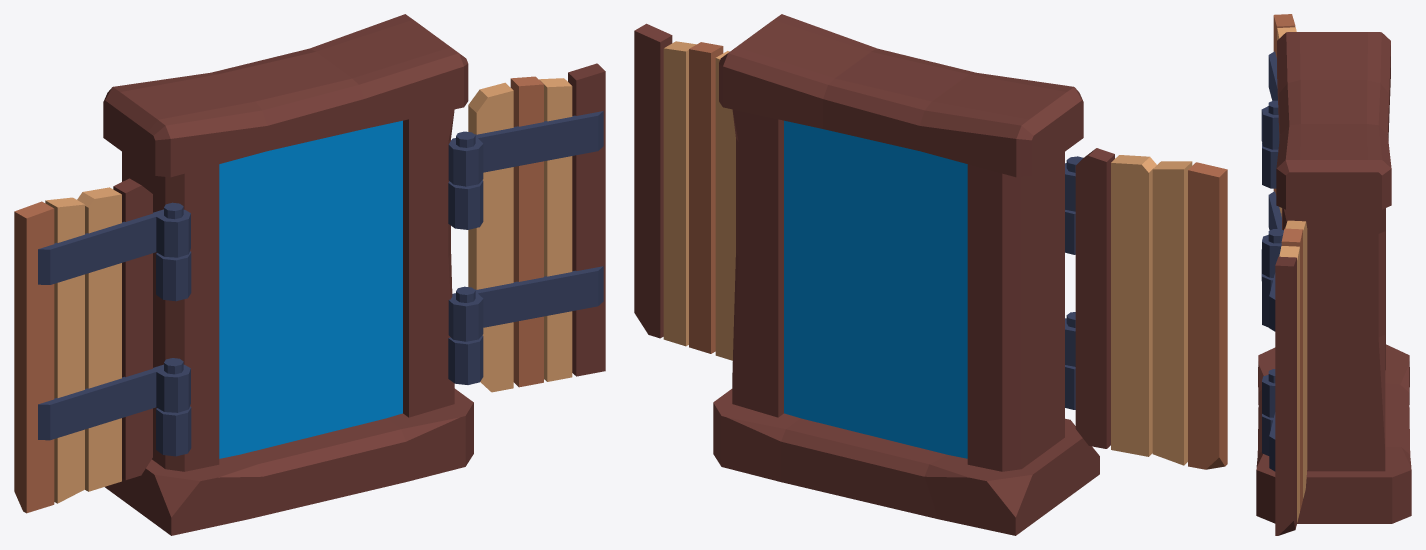
Rendered from Building Window 03.fbx.
3 views of the same model, side by side, from view 1: azimuth 30°, elevation 25°; view 2: azimuth 150°, elevation 25°; view 3: azimuth 270°, elevation 25° (orthographic). The views are drawn at different scales.
Parts seen in each view (by area): view 1: Modular Wall 02 W2 MK2.002, WindowSiding 01.022, WindowSiding 02.022; view 2: Modular Wall 02 W2 MK2.002, WindowSiding 01.022, WindowSiding 02.022; view 3: Modular Wall 02 W2 MK2.002, WindowSiding 02.022, WindowSiding 01.022.
Boxes of the visible parts, <box> form: Modular Wall 02 W2 MK2.002: <box>103,14,483,535</box>; WindowSiding 01.022: <box>14,178,190,513</box>; WindowSiding 02.022: <box>448,63,605,392</box>; Modular Wall 02 W2 MK2.002: <box>713,14,1099,535</box>; WindowSiding 01.022: <box>1065,148,1227,469</box>; WindowSiding 02.022: <box>634,23,735,360</box>; Modular Wall 02 W2 MK2.002: <box>1256,32,1411,523</box>; WindowSiding 02.022: <box>1262,220,1307,535</box>; WindowSiding 01.022: <box>1261,14,1296,280</box>.
Bounding box in the file's own units: 259 × 170 × 66.15.
